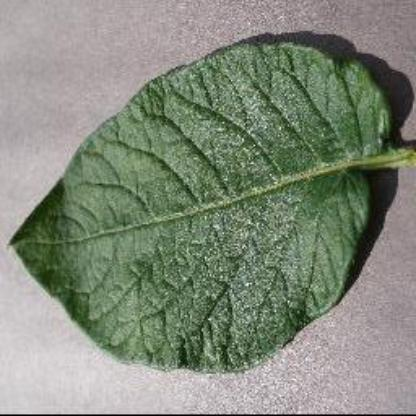Healthy-plant: (7, 29, 408, 378)
